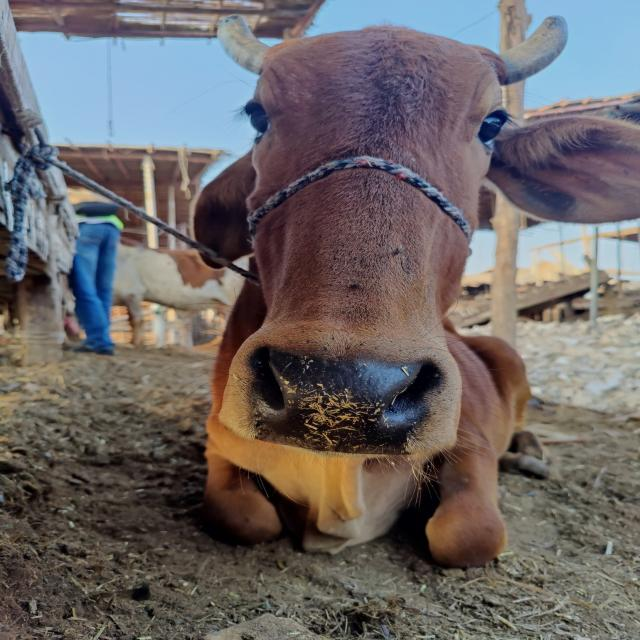muzzles: (235, 330, 448, 458)
